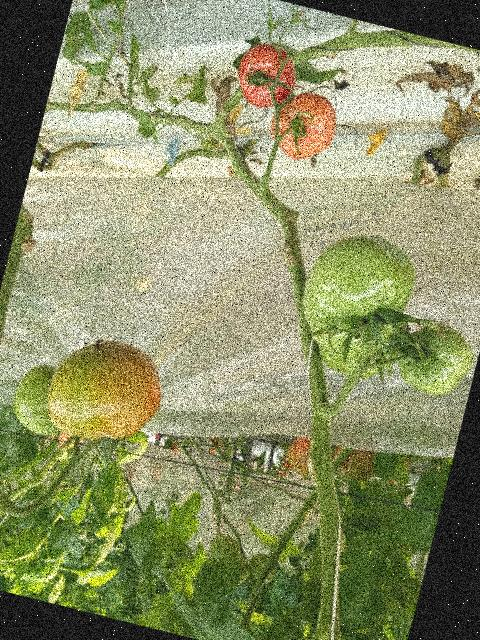b_fully_ripened: (230, 37, 303, 115)
b_green: (289, 221, 423, 371), (313, 293, 413, 387), (391, 314, 480, 403), (7, 357, 78, 439)
b_half_ripened: (39, 326, 173, 455), (263, 83, 344, 168), (328, 442, 383, 487), (283, 435, 320, 479)
